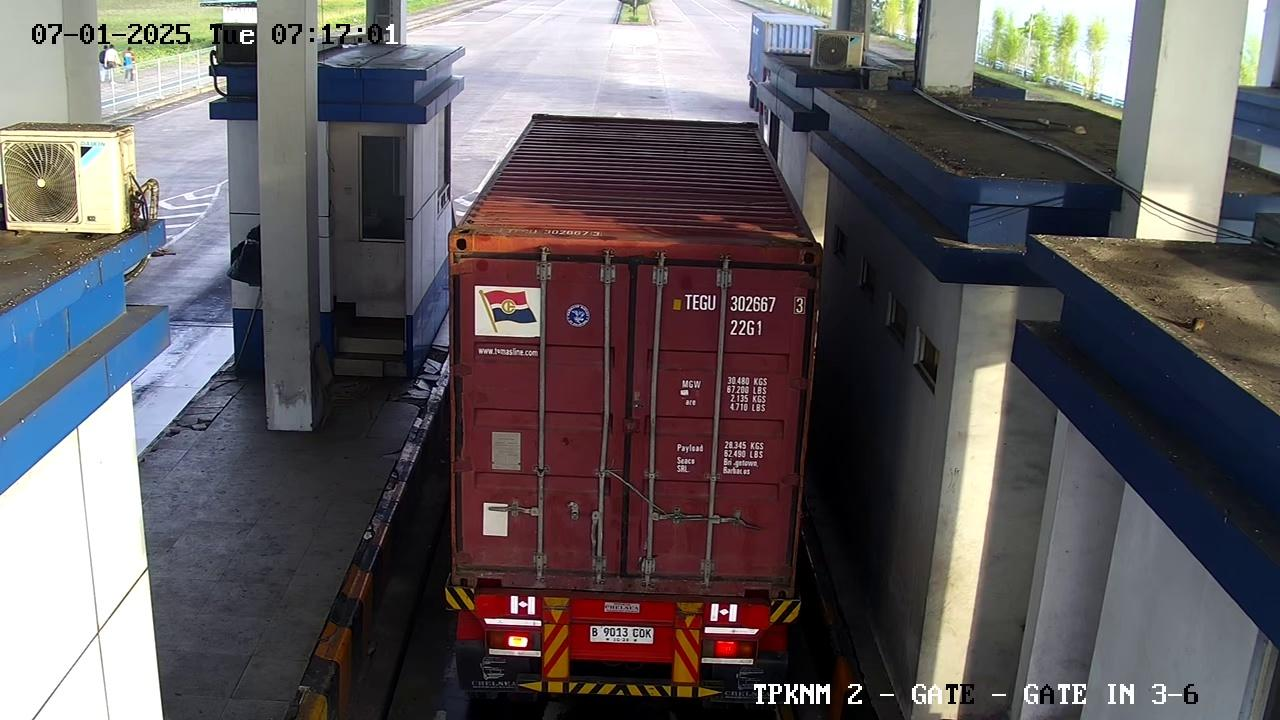Container_ID: (656, 289, 816, 343)
plate_number: (569, 615, 674, 658)
